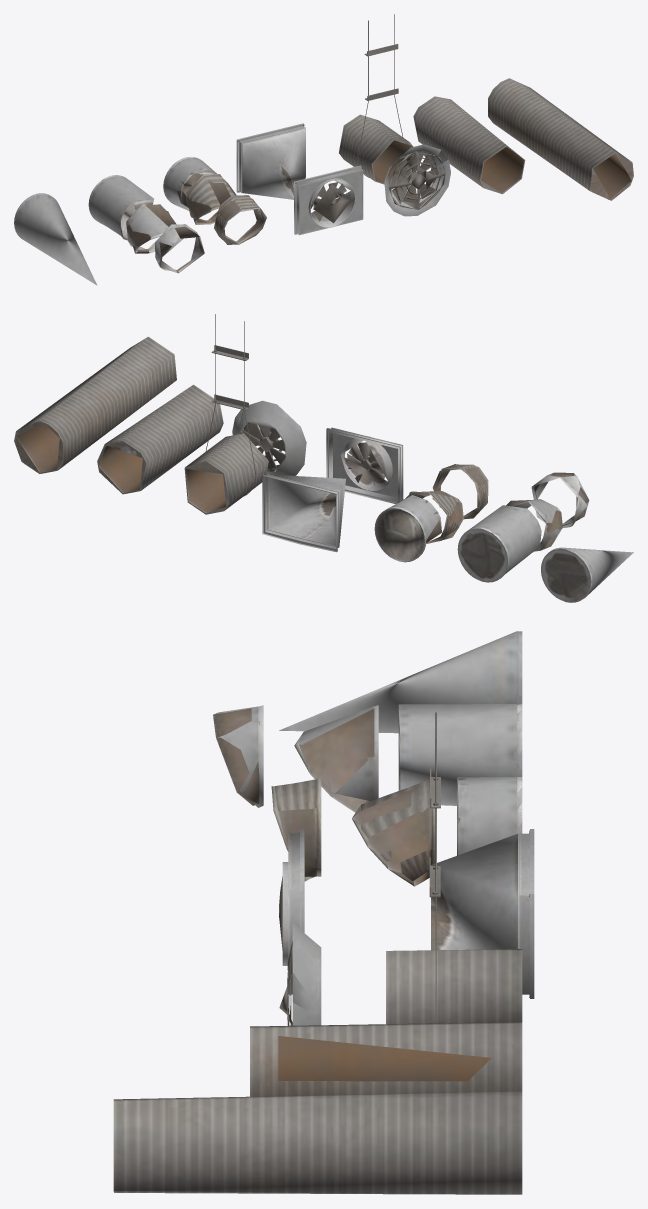
Rendered from ph_airduct.glb.
3 renders of one model, top to bottom at view 1: azimuth 30°, elevation 25°; view 2: azimuth 150°, elevation 25°; view 3: azimuth 270°, elevation 25°, orthographic. The views are drawn at different scales.
Visible parts, largest first — view 1: modular_airduct_circular_triple, modular_airduct_circular_double, modular_airduct_rectangular_converter, modular_airduct_rectangular_vent_fan, modular_airduct_circular_fan, modular_airduct_circular_smooth_triple, modular_airduct_circular_single, modular_airduct_circular_smooth_double, modular_airduct_circular_smooth_bend_half, modular_airduct_circular_bend_half, modular_airduct_circular_smooth_single, modular_airduct_circular_bend_quater (+1 smaller); view 2: modular_airduct_circular_triple, modular_airduct_circular_double, modular_airduct_rectangular_converter, modular_airduct_circular_single, modular_airduct_rectangular_vent_fan, modular_airduct_circular_smooth_double, modular_airduct_circular_fan, modular_airduct_circular_smooth_triple, modular_airduct_circular_smooth_single, modular_airduct_circular_smooth_bend_quater, modular_airduct_circular_smooth_bend_half, modular_airduct_circular_bend_half (+2 smaller); view 3: modular_airduct_circular_triple, modular_airduct_circular_double, modular_airduct_rectangular_converter, modular_airduct_circular_single, modular_airduct_circular_smooth_double, modular_airduct_circular_smooth_triple, modular_airduct_circular_smooth_bend_half, modular_airduct_circular_bend_half, modular_airduct_circular_smooth_single, modular_airduct_circular_smooth_bend_quater, modular_airduct_circular_bend_quater, modular_airduct_circular_fan (+1 smaller).
Boxes of the visible parts, <box> form: modular_airduct_circular_triple: <box>488,78,633,200</box>; modular_airduct_circular_double: <box>413,96,525,194</box>; modular_airduct_rectangular_converter: <box>236,123,305,199</box>; modular_airduct_rectangular_vent_fan: <box>294,165,363,235</box>; modular_airduct_circular_fan: <box>384,144,450,216</box>; modular_airduct_circular_smooth_triple: <box>14,193,97,285</box>; modular_airduct_circular_single: <box>339,114,413,185</box>; modular_airduct_circular_smooth_double: <box>88,175,153,240</box>; modular_airduct_circular_smooth_bend_half: <box>126,203,176,253</box>; modular_airduct_circular_bend_half: <box>186,174,236,224</box>; modular_airduct_circular_smooth_single: <box>163,157,216,215</box>; modular_airduct_circular_bend_quater: <box>214,195,266,244</box>; modular_airduct_circular_triple: <box>14,336,176,473</box>; modular_airduct_circular_double: <box>97,384,223,494</box>; modular_airduct_rectangular_converter: <box>262,474,345,552</box>; modular_airduct_circular_single: <box>184,433,268,514</box>; modular_airduct_rectangular_vent_fan: <box>326,427,403,504</box>; modular_airduct_circular_smooth_double: <box>457,505,541,582</box>; modular_airduct_circular_fan: <box>232,400,306,475</box>; modular_airduct_circular_smooth_triple: <box>541,547,633,602</box>; modular_airduct_circular_smooth_single: <box>374,495,441,562</box>; modular_airduct_circular_smooth_bend_quater: <box>531,472,589,527</box>; modular_airduct_circular_smooth_bend_half: <box>506,499,562,551</box>; modular_airduct_circular_bend_half: <box>405,491,463,543</box>; modular_airduct_circular_triple: <box>113,1091,522,1194</box>; modular_airduct_circular_double: <box>250,1022,522,1096</box>; modular_airduct_rectangular_converter: <box>431,829,534,998</box>; modular_airduct_circular_single: <box>386,949,522,1024</box>; modular_airduct_circular_smooth_double: <box>398,704,522,805</box>; modular_airduct_circular_smooth_triple: <box>279,631,522,733</box>; modular_airduct_circular_smooth_bend_half: <box>294,705,378,812</box>; modular_airduct_circular_bend_half: <box>352,779,435,886</box>; modular_airduct_circular_smooth_single: <box>457,777,522,855</box>; modular_airduct_circular_smooth_bend_quater: <box>213,705,263,807</box>; modular_airduct_circular_bend_quater: <box>271,778,321,881</box>; modular_airduct_circular_fan: <box>279,923,321,1025</box>.
Bounding box in the file's own units: 4.17 × 1.32 × 1.46.
Materials: 1 (1 with a texture image).
